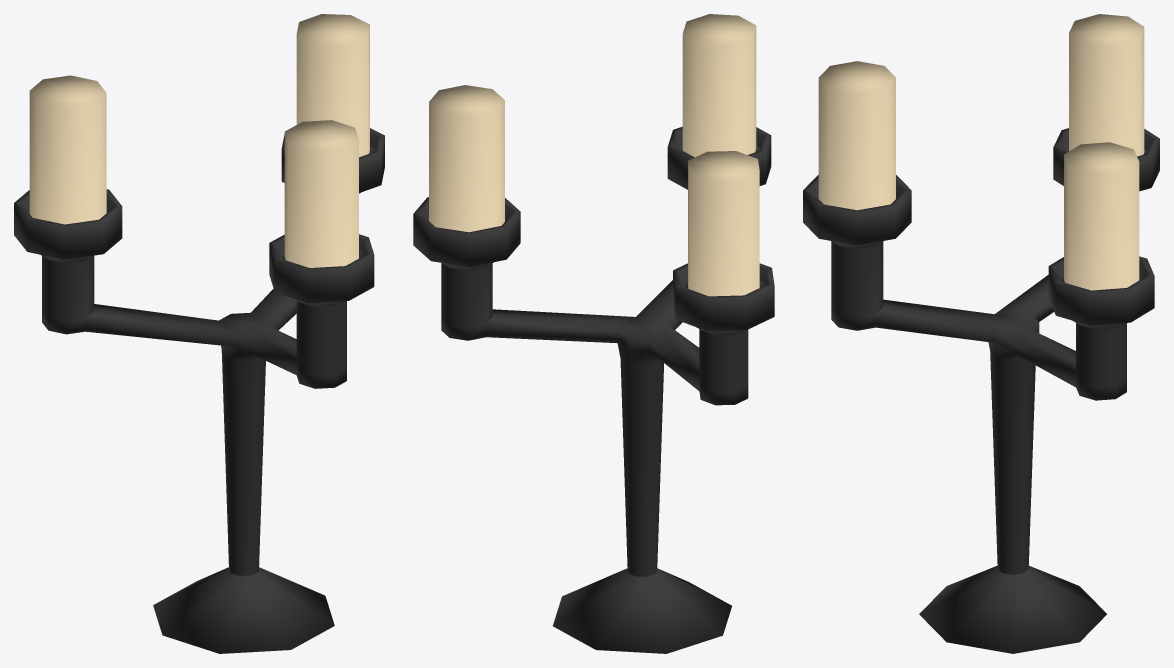
File: OBJETS_Chandelier_Sol_JAM_2024.fbx
The picture shows the model from 3 angles, left to right: view 1: azimuth 30°, elevation 25°; view 2: azimuth 150°, elevation 25°; view 3: azimuth 270°, elevation 25°; orthographic projection.
Visible parts, largest first — view 1: Chandelier_sol; view 2: Chandelier_sol; view 3: Chandelier_sol.
Part boxes in pixels (x1=…): Chandelier_sol: x1=14, y1=14, x2=384, y2=653; Chandelier_sol: x1=413, y1=14, x2=774, y2=653; Chandelier_sol: x1=803, y1=14, x2=1159, y2=653.
Bounding box in the file's own units: 32.94 × 47.64 × 28.7.
